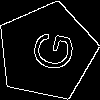G: (21, 26, 76, 74)
